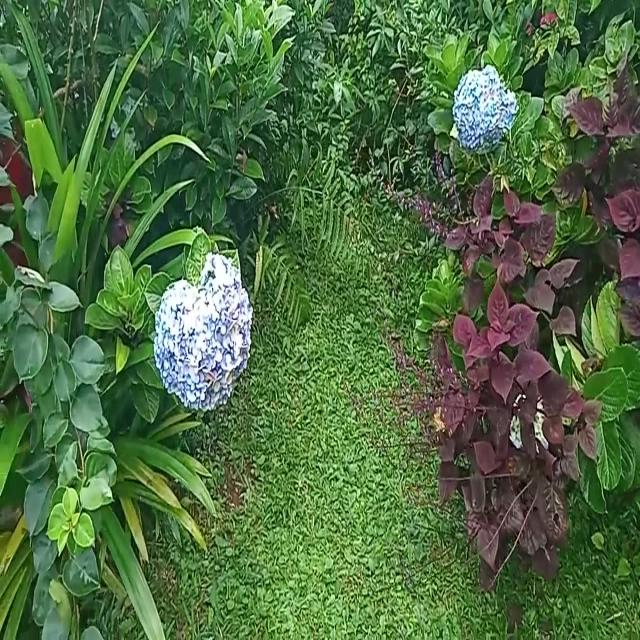Flower: (152, 247, 252, 417), (451, 60, 521, 159)
